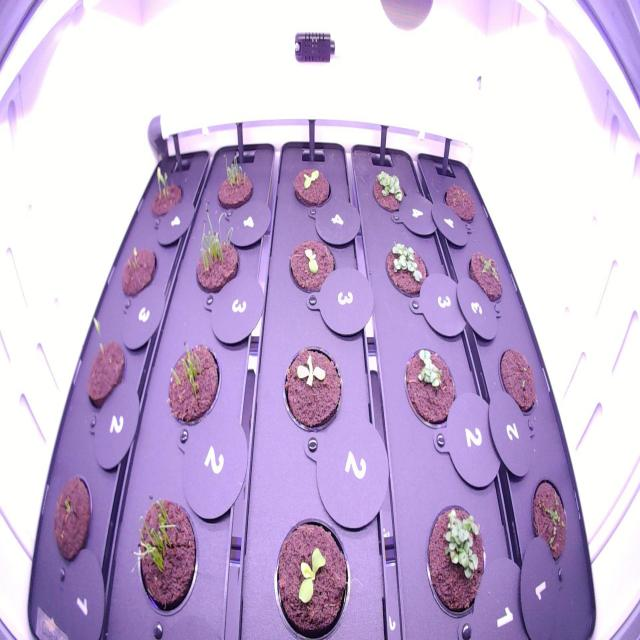germination: (268, 509, 354, 636), (123, 491, 203, 624), (421, 495, 490, 623), (162, 332, 224, 430), (400, 343, 464, 437), (74, 309, 129, 414), (190, 205, 245, 302), (528, 472, 571, 568), (284, 229, 340, 300), (383, 234, 433, 306), (143, 153, 184, 232), (210, 146, 256, 214), (116, 238, 161, 306), (462, 246, 508, 310), (288, 158, 336, 212), (367, 163, 412, 220)
pod: (50, 468, 97, 570), (494, 342, 541, 422), (441, 177, 480, 227)
young: (275, 340, 346, 440)
